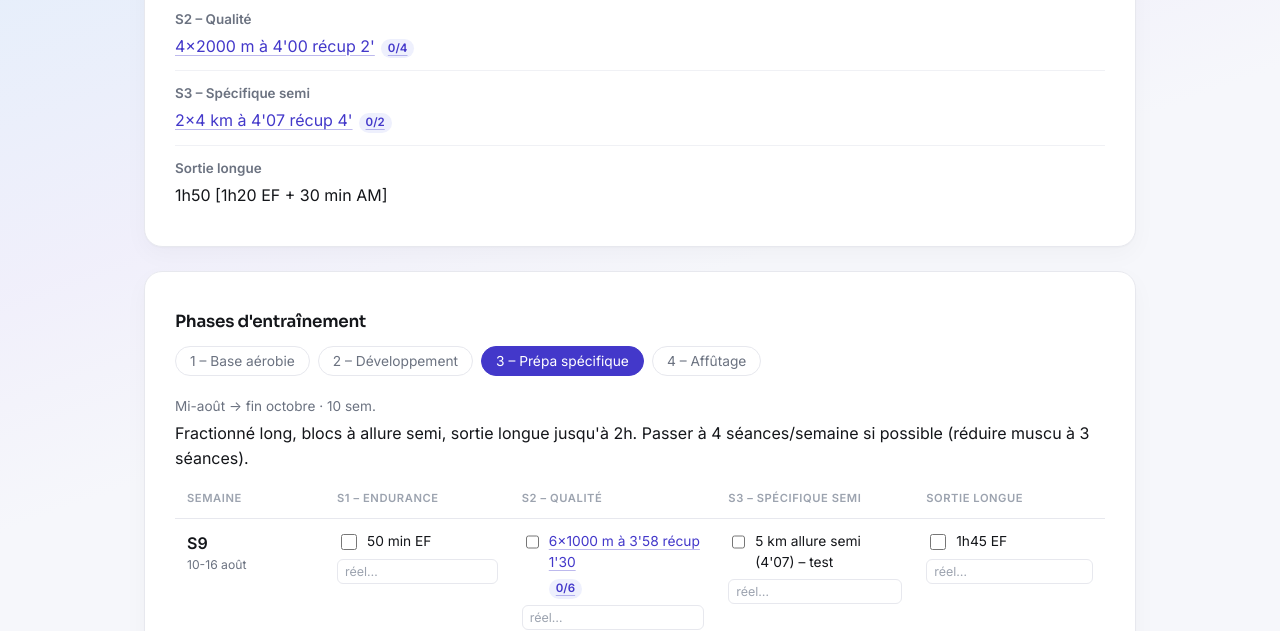
Test: RunningProgramComponent › counts repetitions through the sheet for an interval session
The image size is (1280, 631).
(page scrolled)
Step 1. Click the button "1 – Base aérobie" → (242, 361), box x1=175 y1=346 x2=310 y2=376
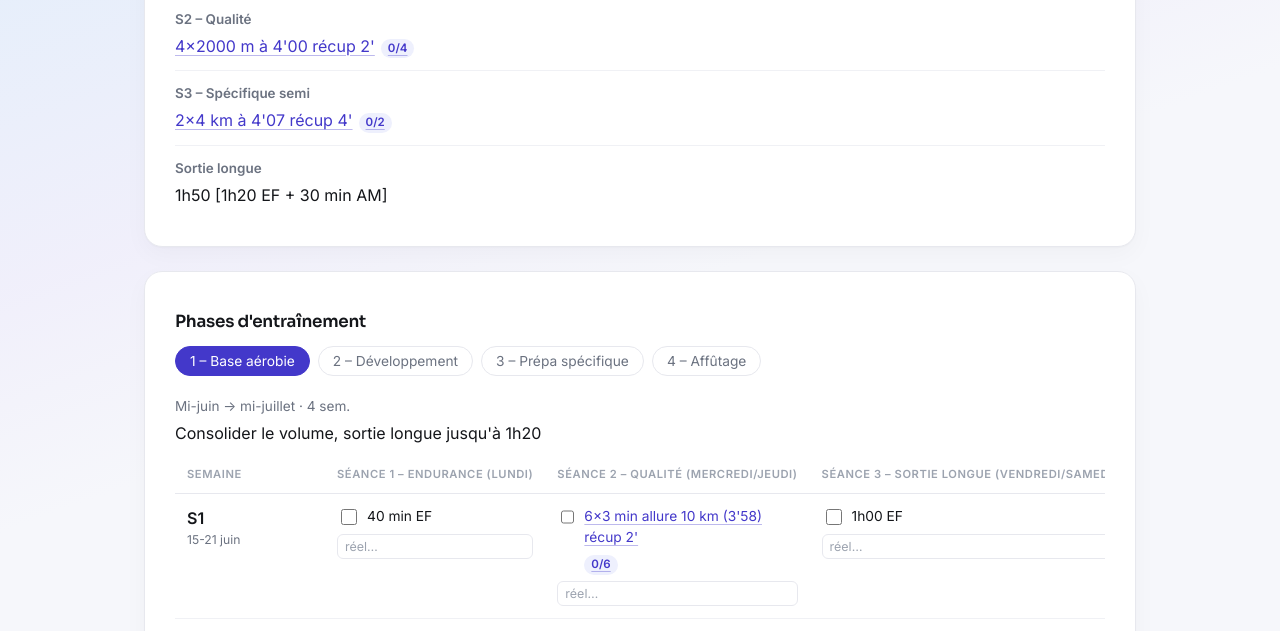
Expected: the button with class "cell-session" shows "6×3 min"
Expected: the button with class "cell-session" shows "0/6"
Step 2. Click the button with class "cell-session" that starts with "6×3 min allure 10 km (3'58) récup 2'" → (691, 540), box x1=584 y1=506 x2=798 y2=574
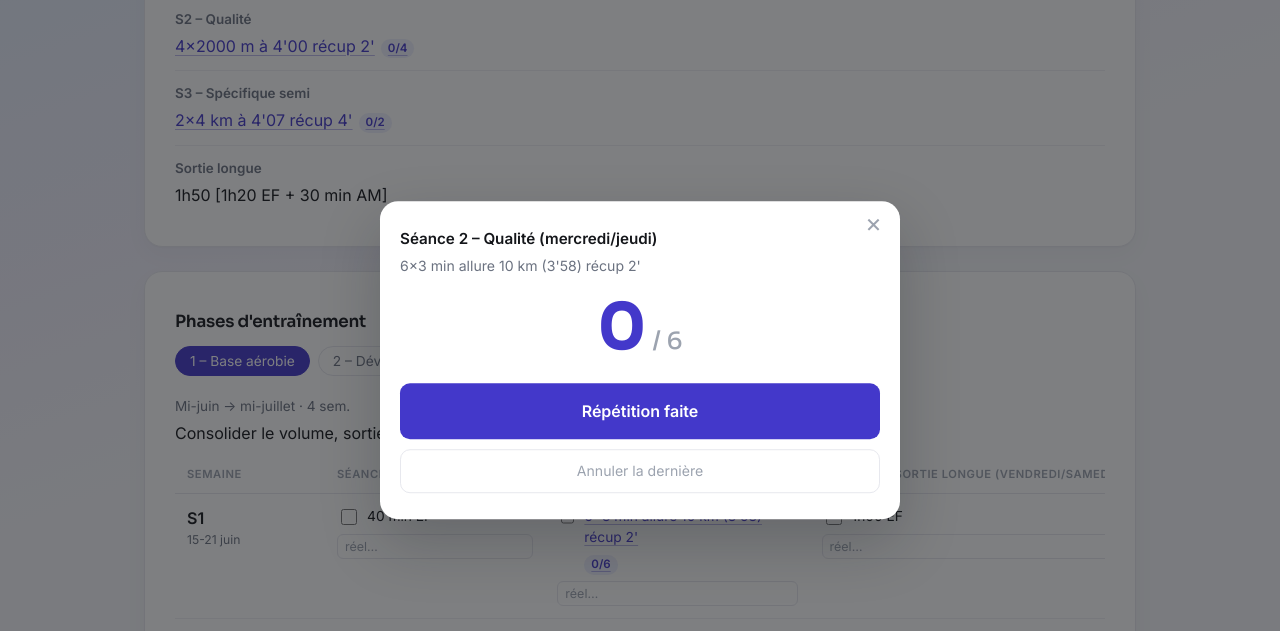
Step 3. Click the button with class "sheet__primary" → (640, 411), box x1=400 y1=383 x2=880 y2=439
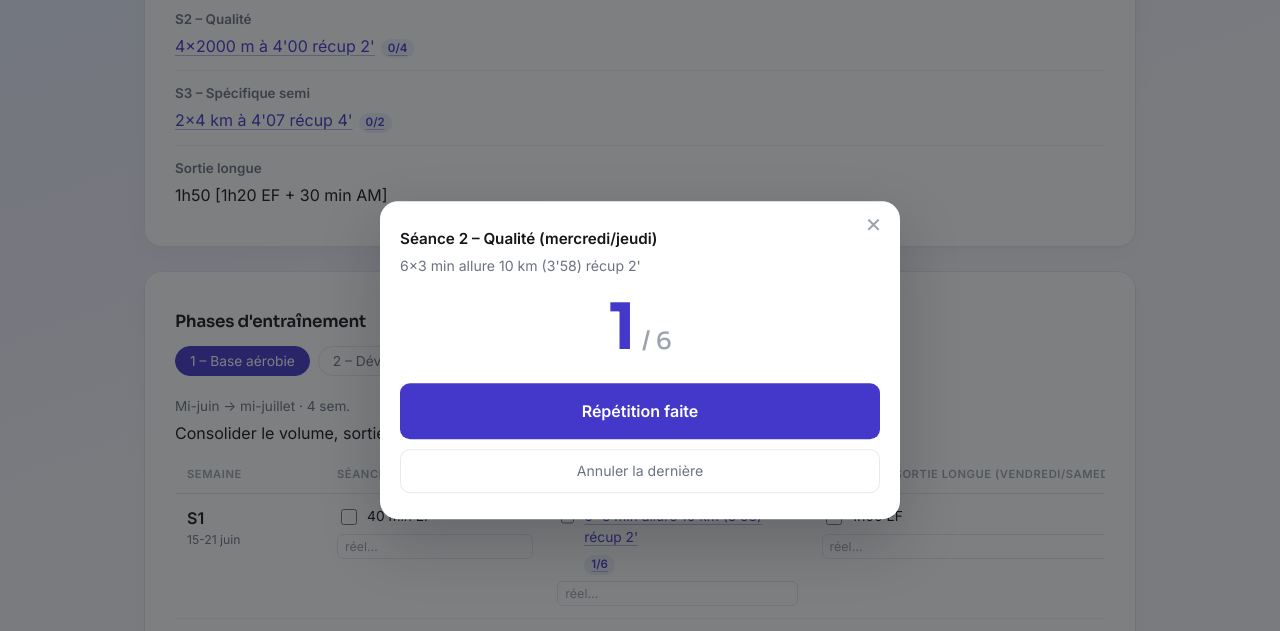
Expected: the text with class "sheet__count-done" reads "1", x1=608 y1=288 x2=636 y2=369
Step 4. Click the button with class "sheet__undo" → (640, 471), box x1=400 y1=449 x2=880 y2=493
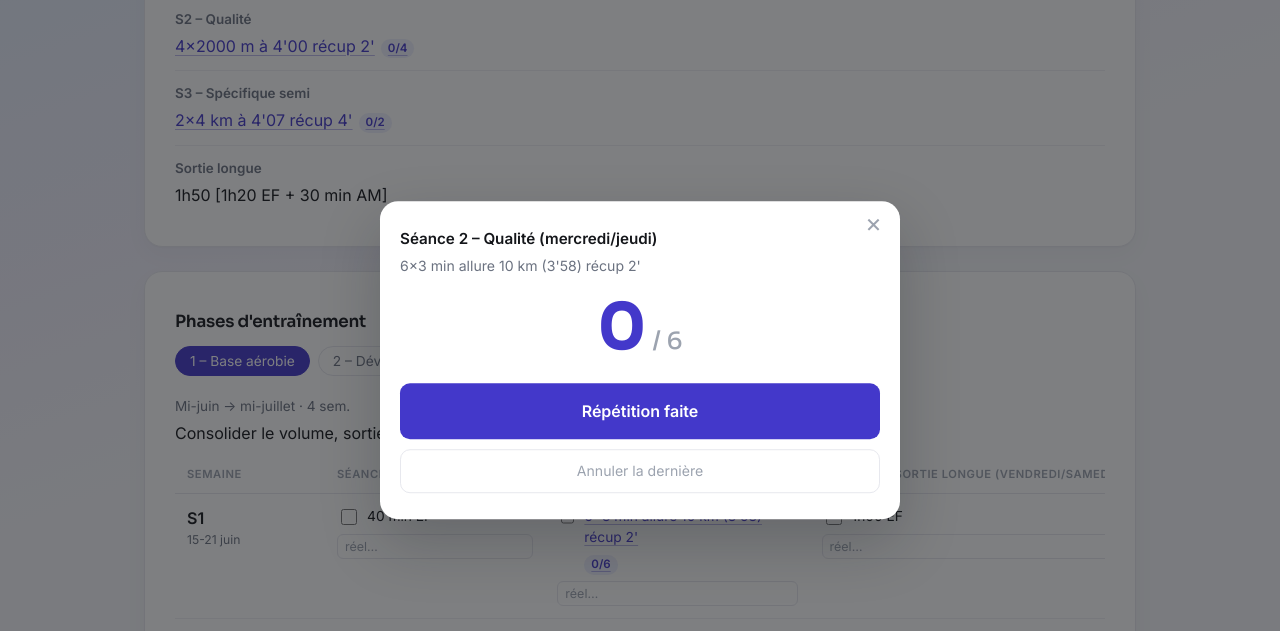
Expected: the text with class "sheet__count-done" reads "0", x1=598 y1=288 x2=646 y2=369
